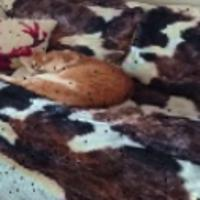asleep: (0, 45, 135, 113)
